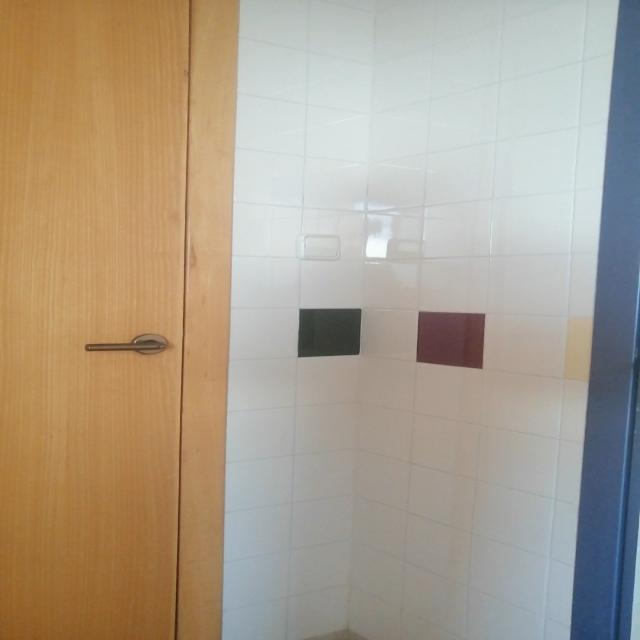door_handle: (79, 338, 171, 353)
